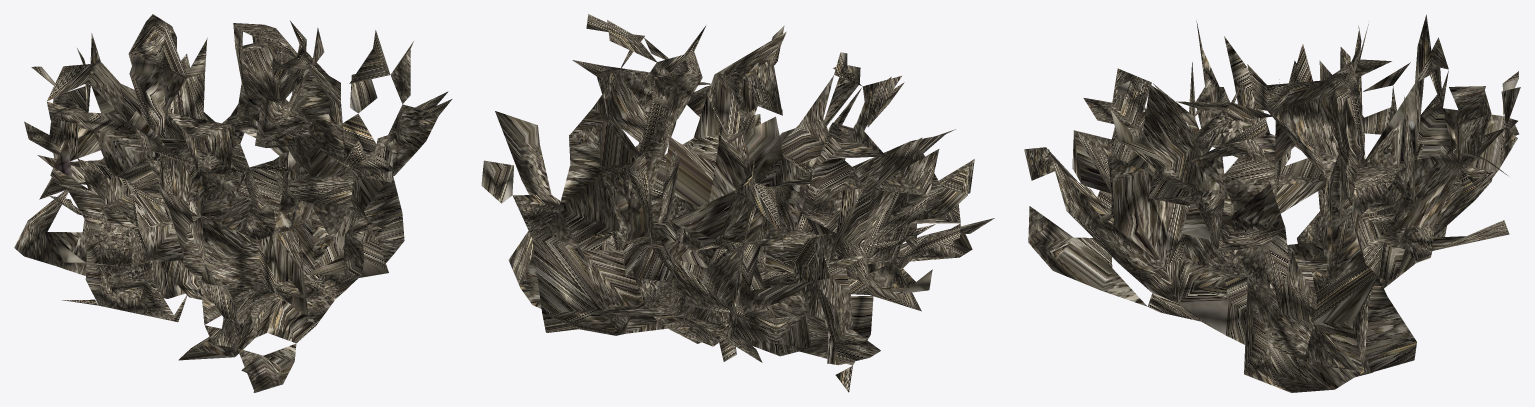
File: branch-coral-lod.glb
The picture shows the model from 3 angles, left to right: view 1: azimuth 30°, elevation 25°; view 2: azimuth 150°, elevation 25°; view 3: azimuth 270°, elevation 25°; orthographic projection. The views are drawn at different scales.
Bounding box in the file's own units: 1.92 × 1.18 × 1.91.
1 material, 1 textured.
